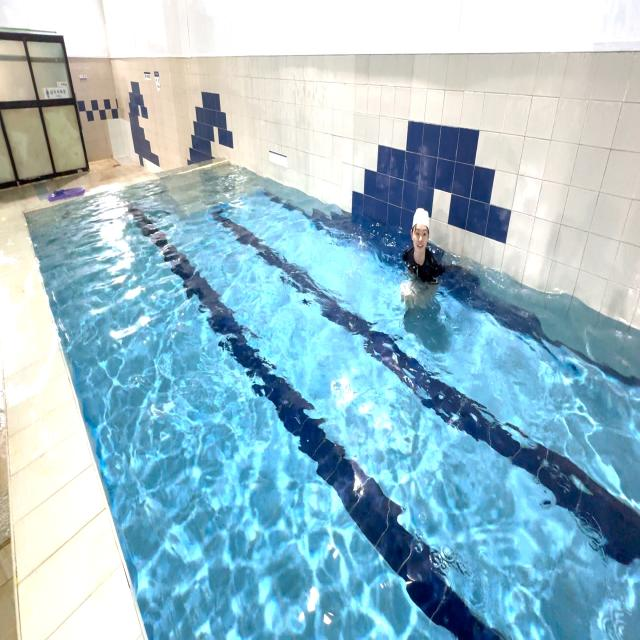Swimming: (400, 206, 445, 310)
